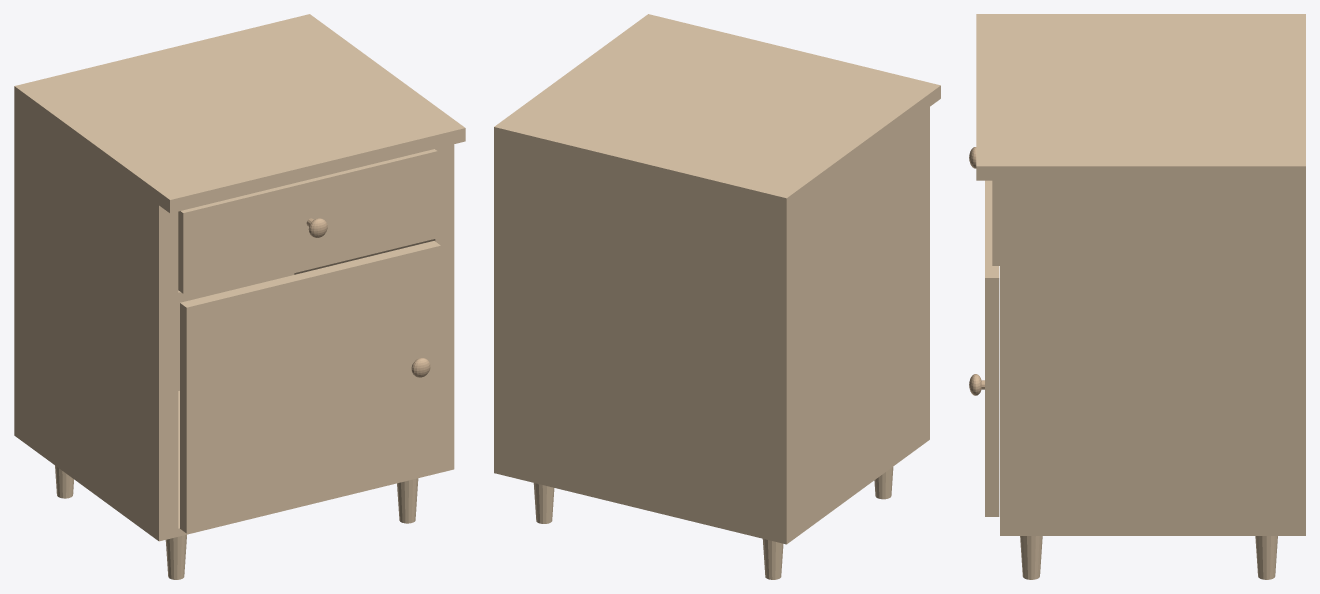
3 renders of one model, left to right at view 1: azimuth 30°, elevation 25°; view 2: azimuth 150°, elevation 25°; view 3: azimuth 270°, elevation 25°, orthographic. The views are drawn at different scales.
Visible parts, largest first — view 1: Carcass, Door, Drawer; view 2: Carcass; view 3: Carcass, Door, Drawer.
Boxes of the visible parts, box(x1,y1,x2,y2) form: Carcass: box(14, 14, 465, 579); Door: box(180, 241, 440, 533); Drawer: box(178, 149, 437, 293); Carcass: box(494, 14, 940, 579); Carcass: box(976, 14, 1305, 579); Door: box(985, 180, 999, 516); Drawer: box(992, 180, 999, 265).
Bounding box in the file's own units: 0.46 × 0.6 × 0.4294.
